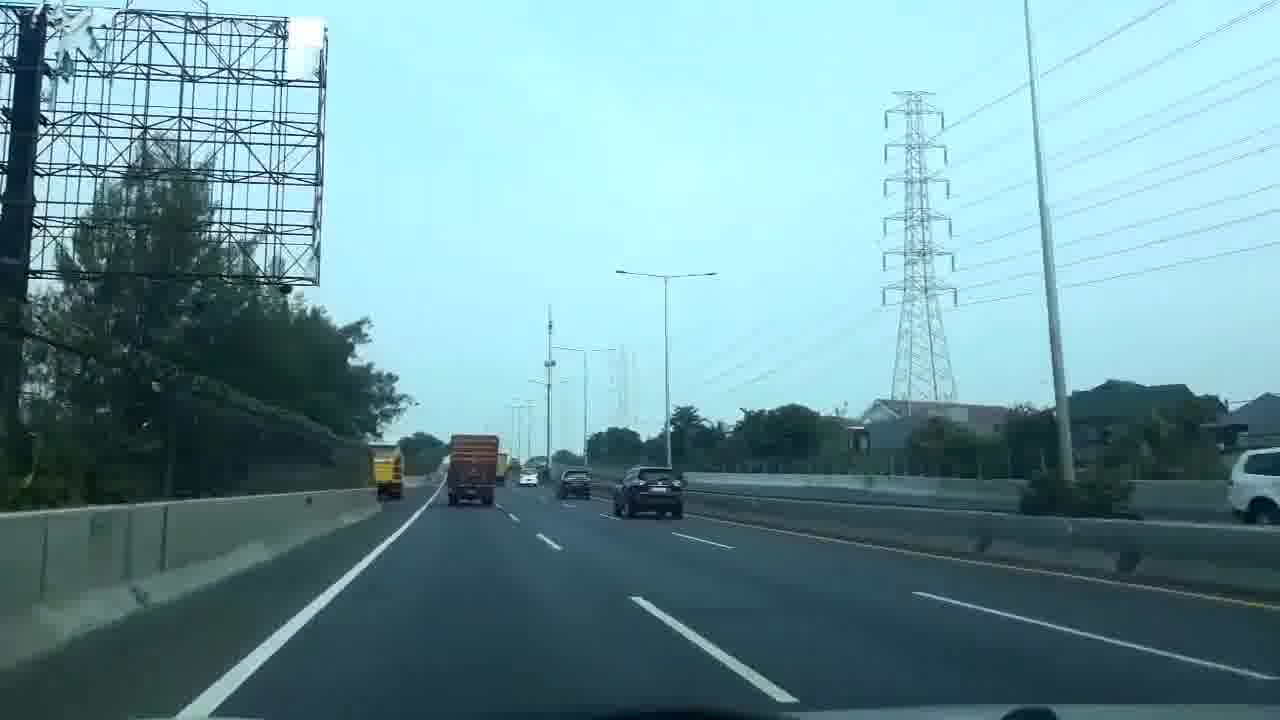plate_positive: (649, 487, 667, 493), (465, 489, 479, 494)
